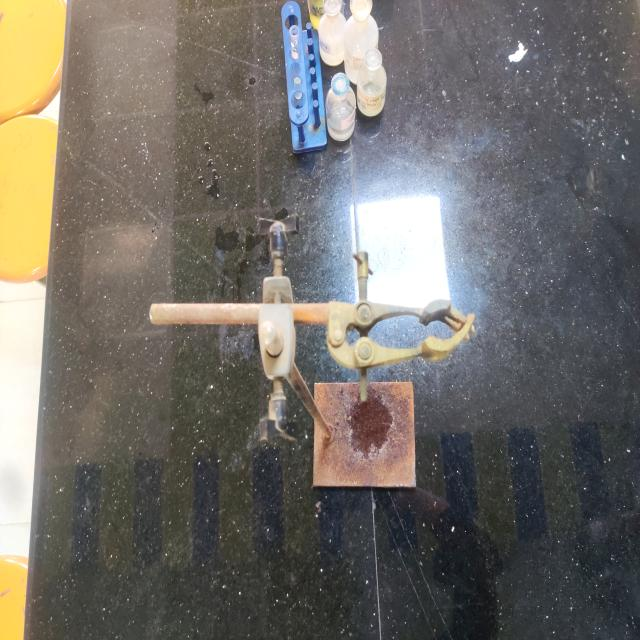Burette_Stands: (128, 201, 482, 503)
